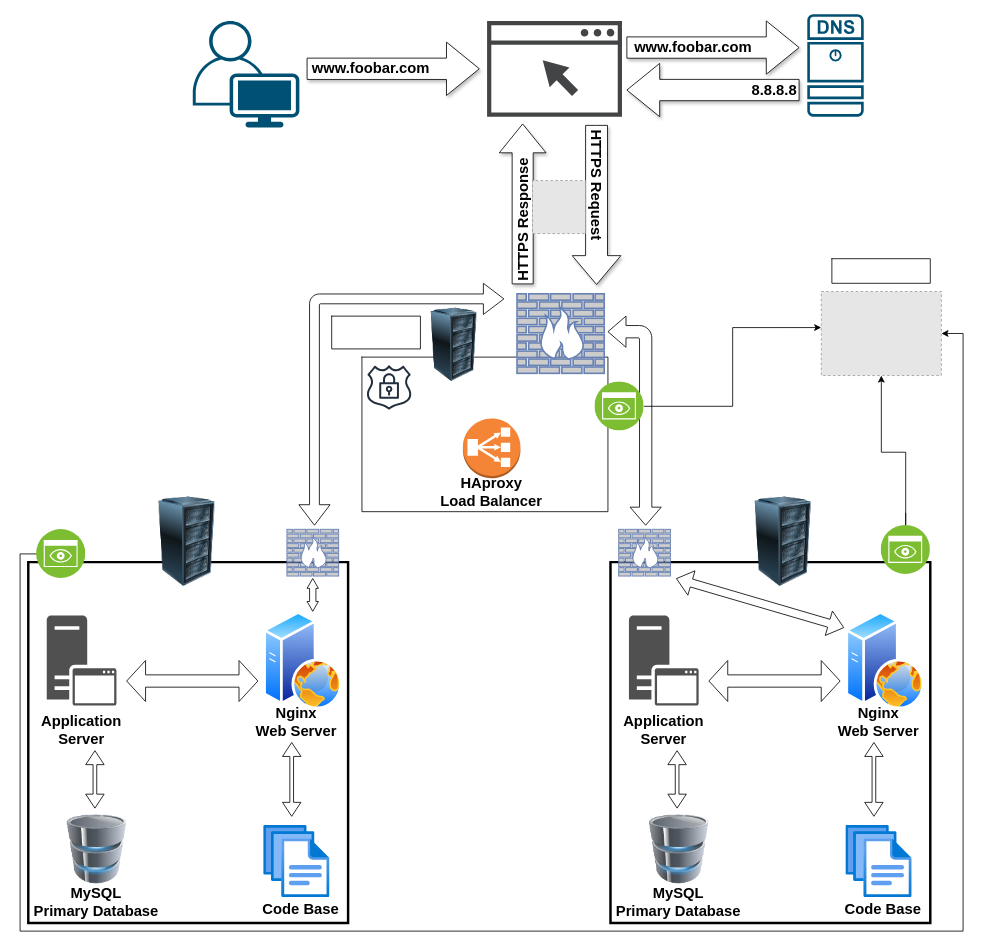
Some shapes in this 984 by 952 pixel diagram are drawn without their labels. Grey dashed boxes stand in for pictures. Here are the shapes that lost their labels. From the top down, the centre of each, then its label:
the point at 880,270: sumo logic
the point at 375,332: IP : 8.8.8.8 Server
